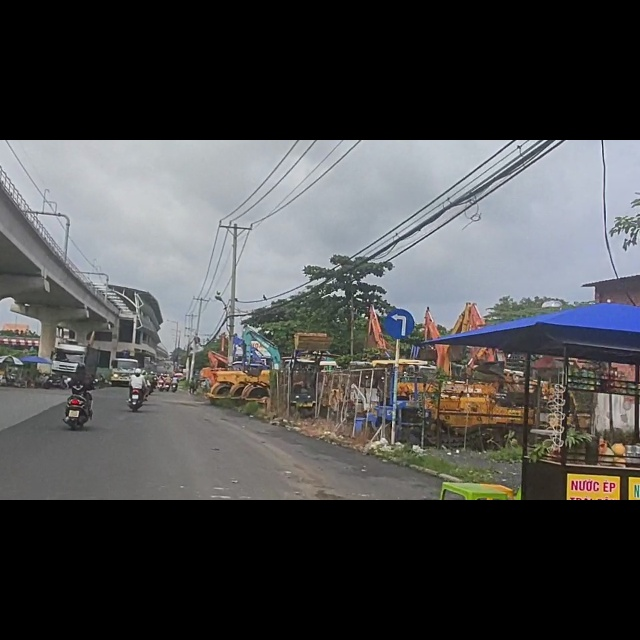bien_chi_dan: (382, 300, 416, 354)
